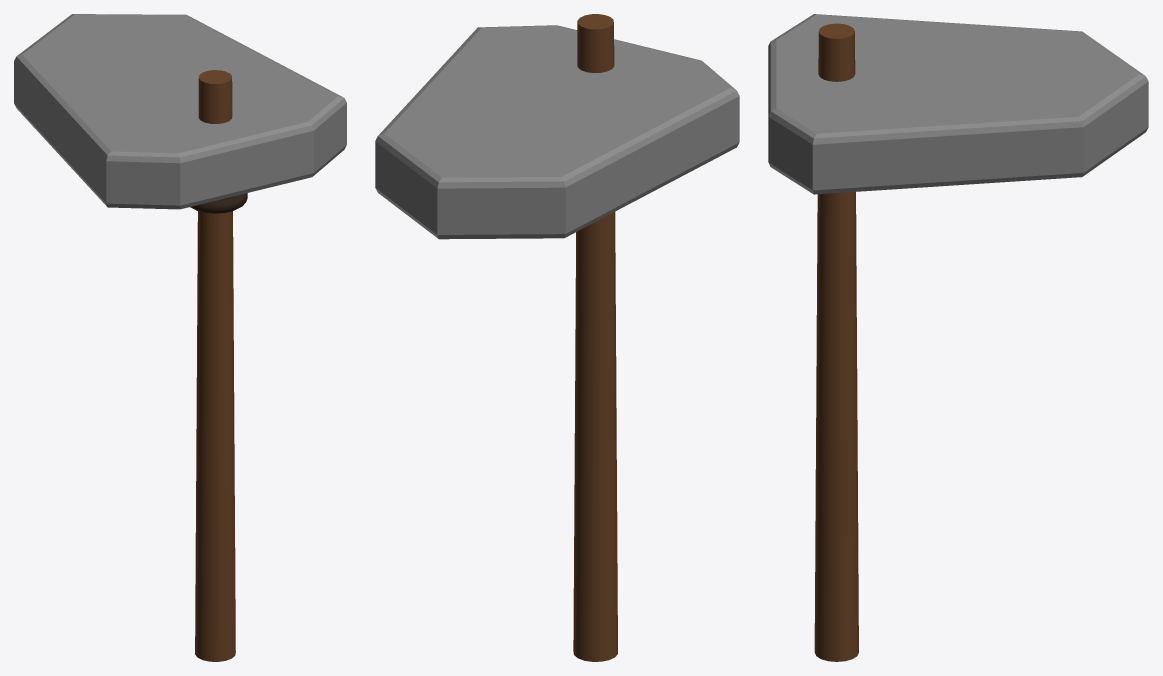
File: stone_axe.glb
3 renders of one model, left to right at view 1: azimuth 30°, elevation 25°; view 2: azimuth 150°, elevation 25°; view 3: azimuth 270°, elevation 25°, orthographic. The views are drawn at different scales.
Parts seen in each view (by area): view 1: head, handle, binding; view 2: head, handle; view 3: head, handle.
Boxes of the visible parts, bbox=[...] form: head: bbox=[14, 14, 346, 209]; handle: bbox=[195, 70, 235, 661]; binding: bbox=[190, 193, 247, 213]; head: bbox=[375, 25, 739, 239]; handle: bbox=[573, 14, 617, 661]; head: bbox=[768, 14, 1148, 194]; handle: bbox=[814, 23, 858, 661].
Bounding box in the file's own units: 0.2974 × 0.68 × 0.3773.
